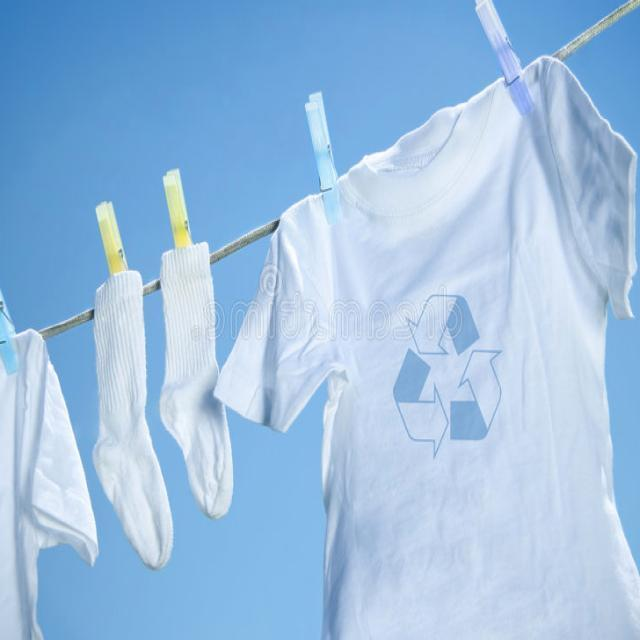clothes: (219, 47, 629, 640)
